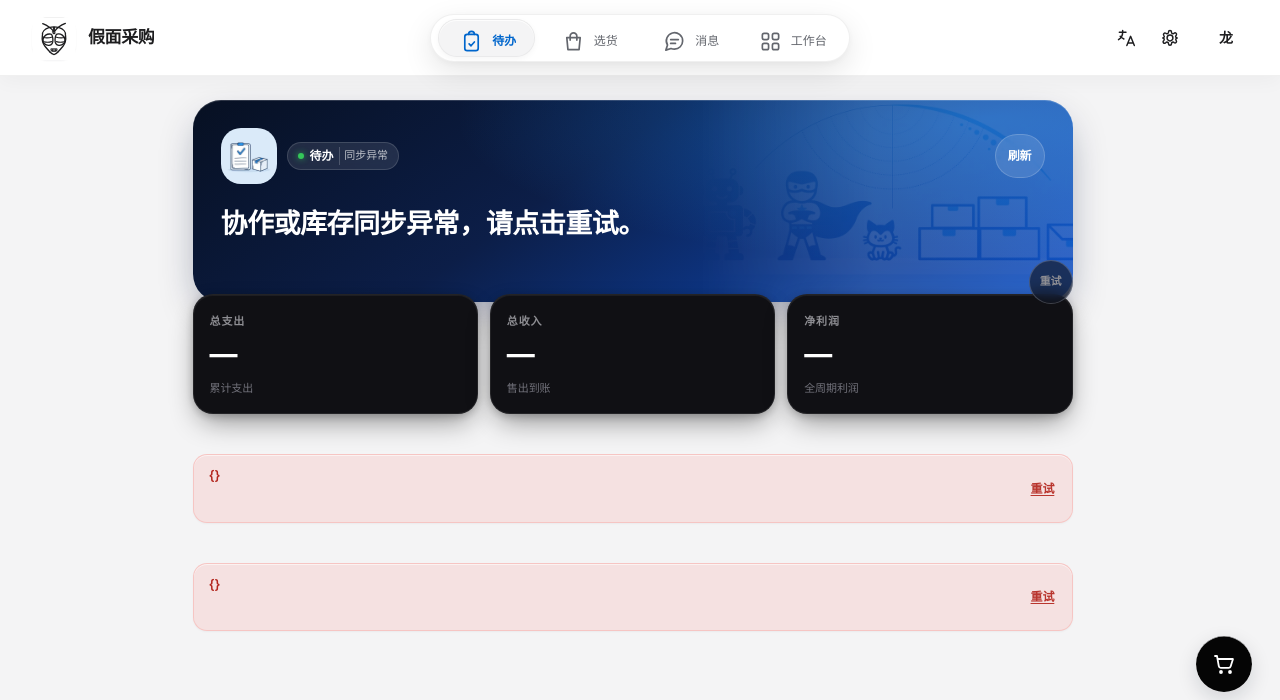
Dashboard favorite synchronization › slims the card: IP tag first, review marker, total only, bundle kept, no seller row or per-card language toggle
Click the button with aria-label "选货".
click(589, 41)  # box left=538, top=19, right=640, bottom=63
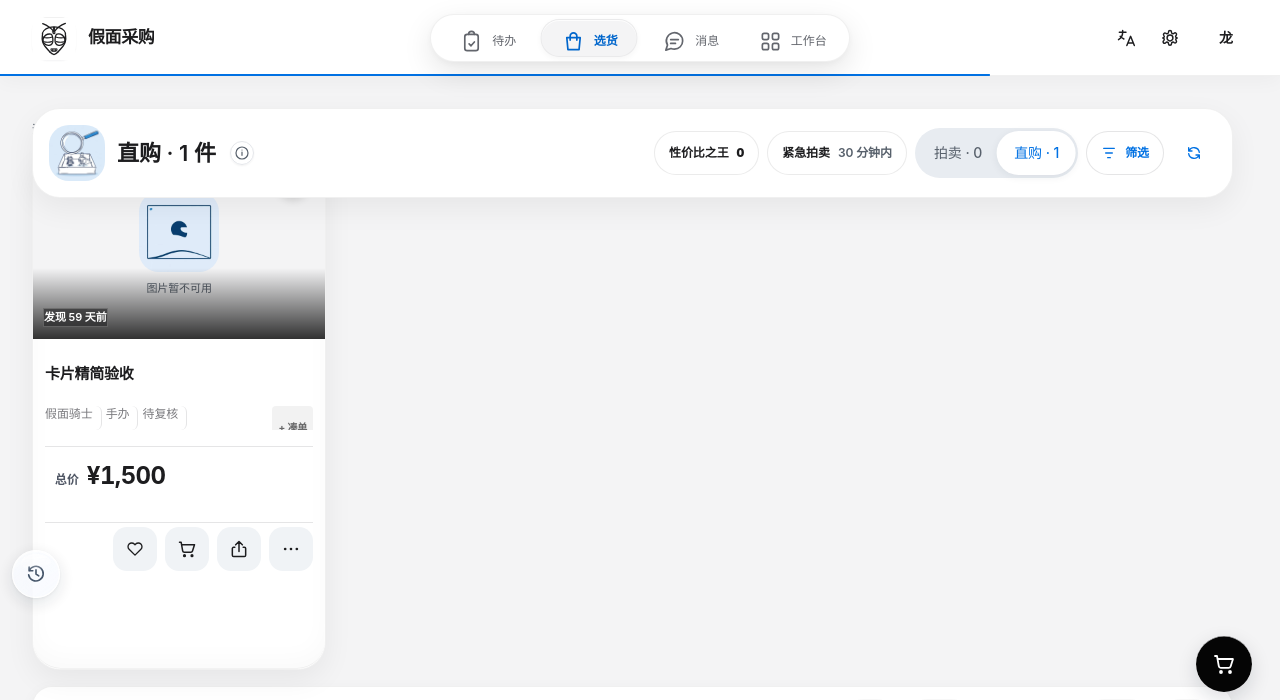
Result: the element named "在售商品类型" is shown at left=915, top=128, right=1078, bottom=178
Result: the element showing "图片暂不可用 测试平台 发现 59 天前 假面骑士 手办 待复核 + 凑单 卡片精简验收 总价 ¥1,500" is shown at left=32, top=150, right=326, bottom=670
Result: the element showing "假面骑士 手办 待复核 + 凑单" is shown at left=45, top=406, right=313, bottom=430
